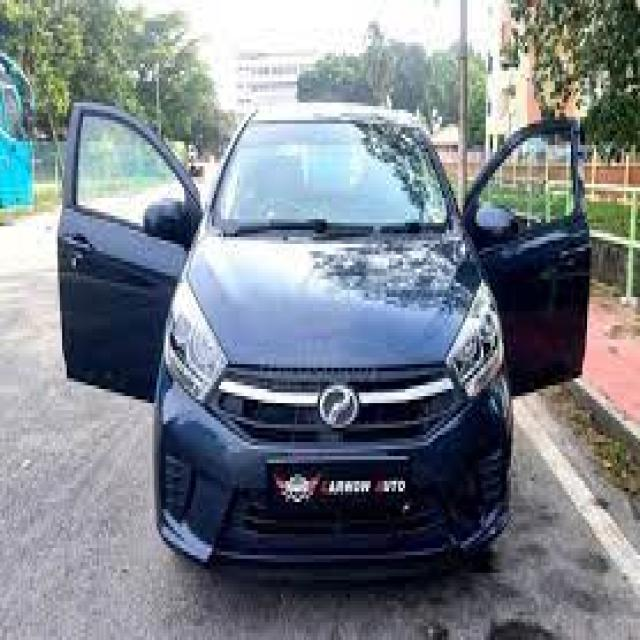PeroduaAxia: (55, 88, 592, 580)
